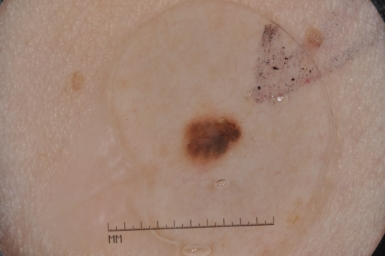seborrheic keratosis: (155, 93, 262, 182)
